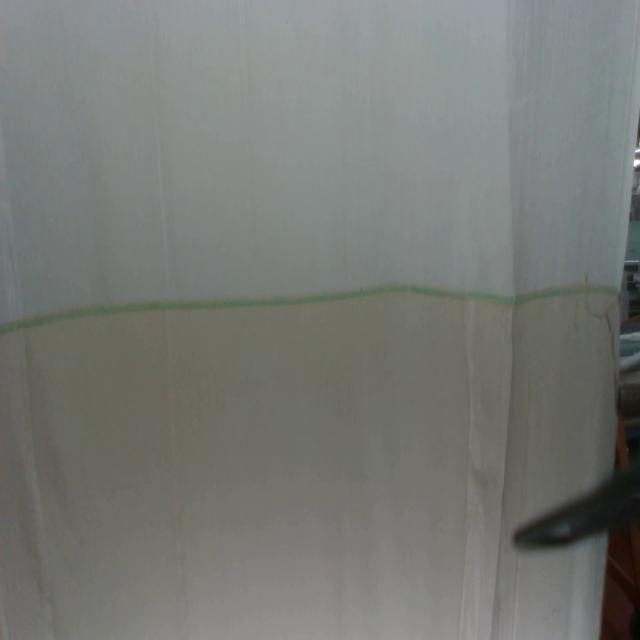crease: (148, 14, 182, 582), (484, 296, 516, 639), (455, 314, 474, 640), (510, 555, 522, 640)
